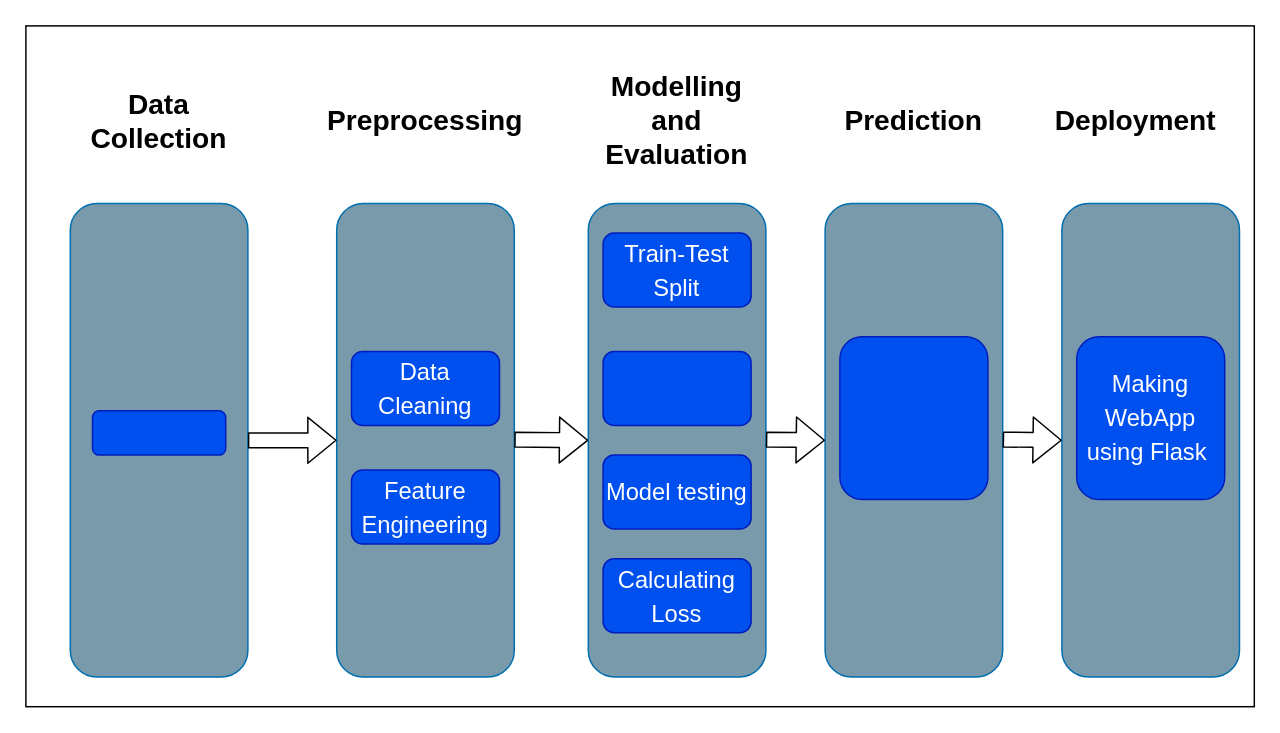
This 1280x733 diagram has some shape labels left out. Here are the shapes that lost their labels. From the top down, the box of each, then its label:
(602, 350, 751, 426): Linear Regression
(91, 409, 226, 455): Dataset
(838, 335, 988, 500): Get the predictions on unseen data
